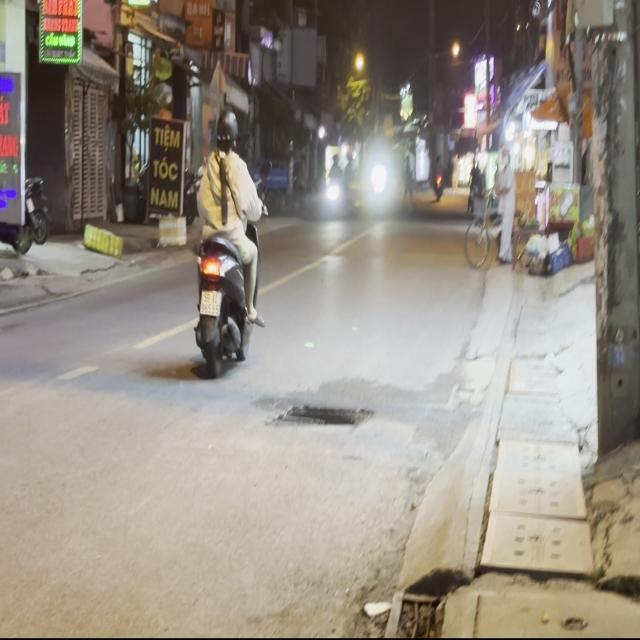helmet: (213, 109, 237, 151)
licenseplate: (188, 107, 262, 374)
nohelmet: (200, 290, 220, 314)
